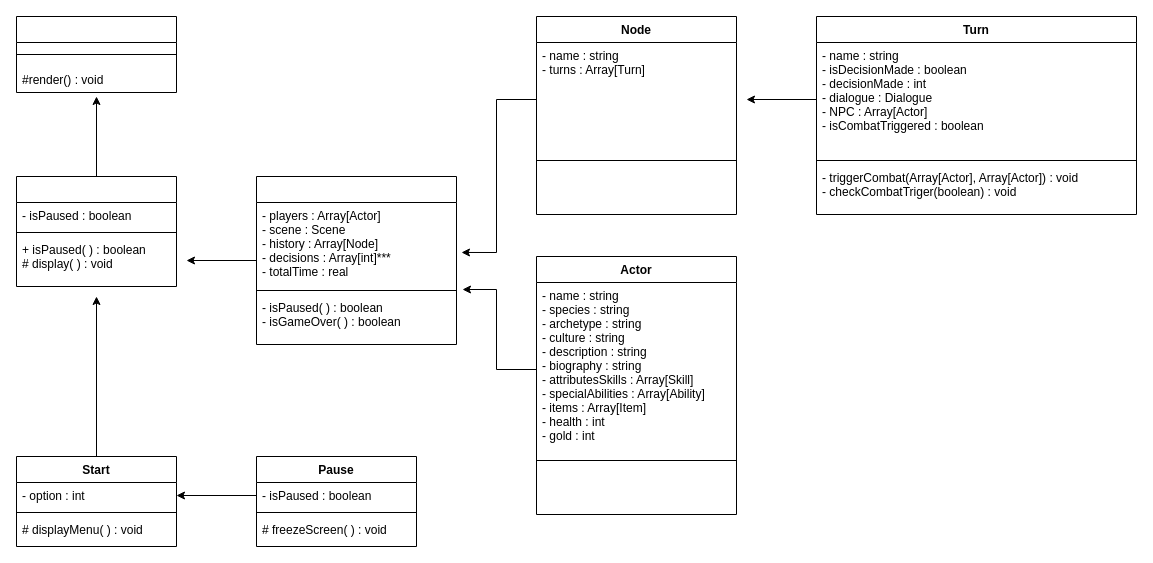
Image size: 1153x563. Some labels were removed from this diagram. Each missing label, with the box of its shape:
Menu: (16, 176, 176, 286)
Screen: (16, 16, 176, 92)
World: (256, 176, 456, 344)
